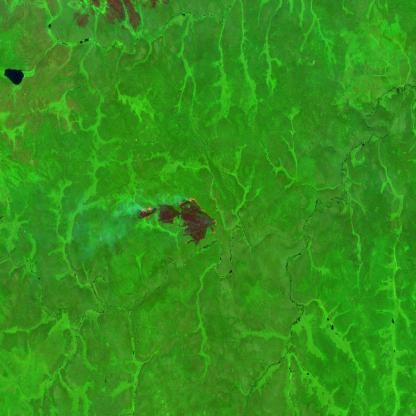fire: (136, 192, 219, 247)
